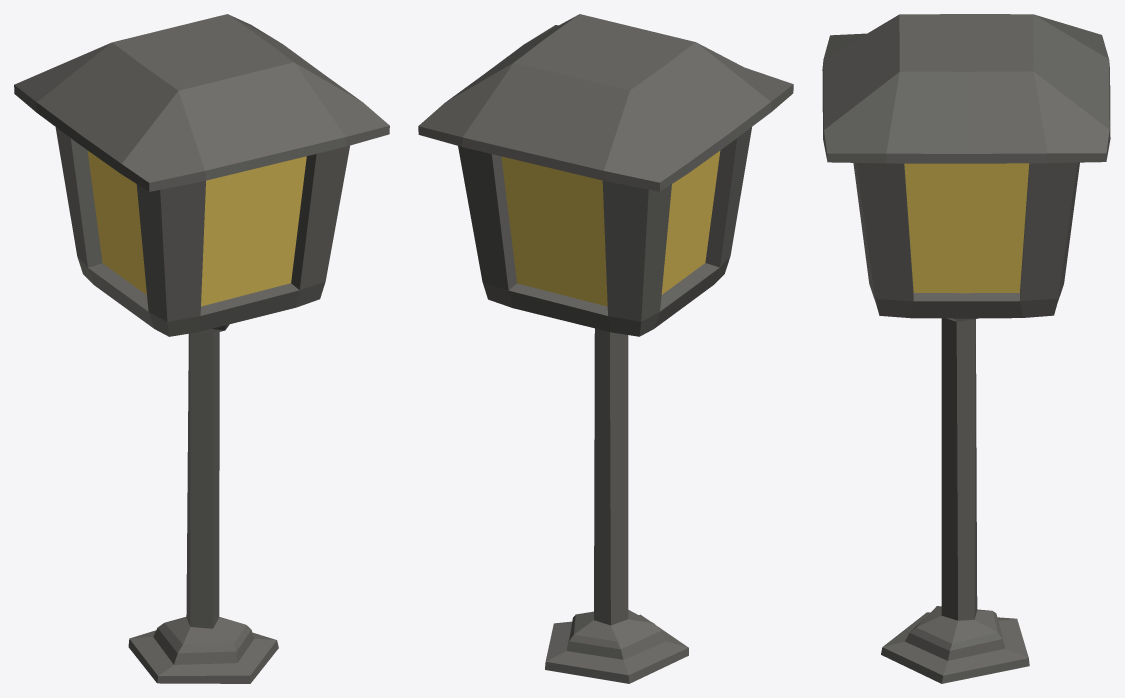
File: Patio_Lamp.fbx
3 views of the same model, side by side, from view 1: azimuth 30°, elevation 25°; view 2: azimuth 150°, elevation 25°; view 3: azimuth 270°, elevation 25° (orthographic).
Parts seen in each view (by area): view 1: Patio_Lamp; view 2: Patio_Lamp; view 3: Patio_Lamp.
Part boxes in pixels (bbox=[...]): Patio_Lamp: bbox=[14, 14, 389, 683]; Patio_Lamp: bbox=[418, 14, 793, 683]; Patio_Lamp: bbox=[822, 14, 1110, 683].
Size of the model in its own units: 24.66 by 24.67 by 57.6.
